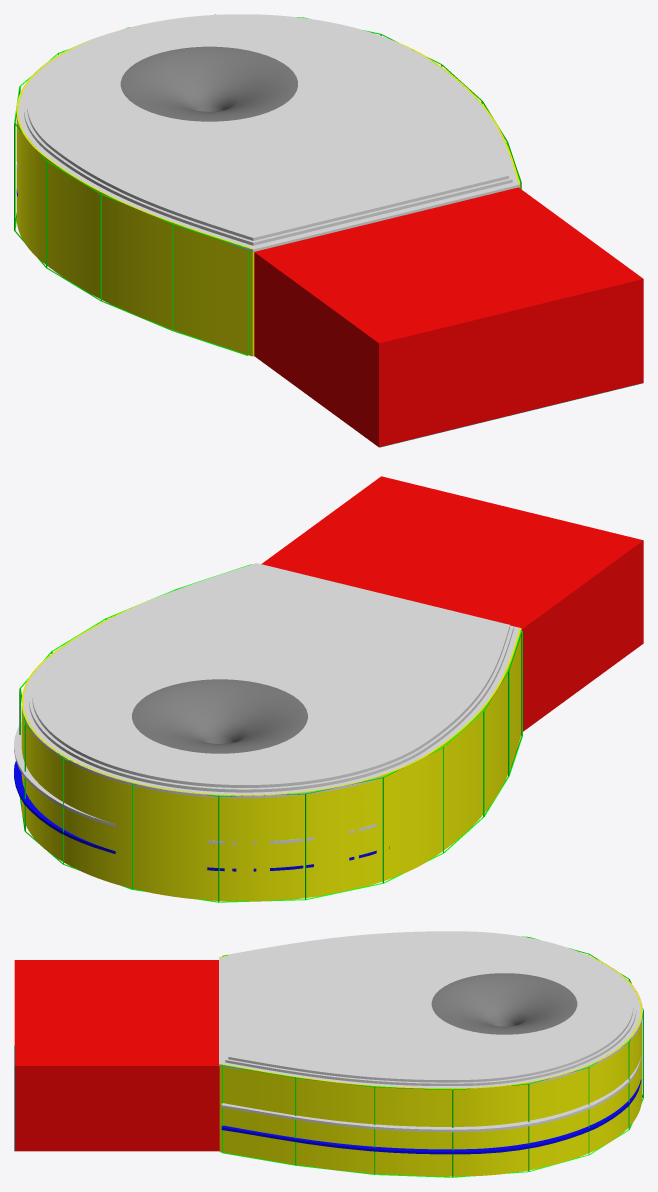
File: EXP07_Completa.fbx
3 views of the same model, one above another, from view 1: azimuth 30°, elevation 25°; view 2: azimuth 150°, elevation 25°; view 3: azimuth 270°, elevation 25° (orthographic). The views are drawn at different scales.
Visible parts, largest first — view 1: EXP5_Cielo, EXP5_Entrada, EXP5_ParedesVidrio, EXP5_Cascada, EXP5_MarcosVentanas; view 2: EXP5_Cielo, EXP5_ParedesVidrio, EXP5_Entrada, EXP5_Cascada, EXP5_MarcosVentanas, Cube.002, Cube.001; view 3: EXP5_Cielo, EXP5_Entrada, EXP5_ParedesVidrio, EXP5_Cascada, Cube.002, Cube.001, EXP5_MarcosVentanas.
Boxes of the visible parts, <box> form: EXP5_Cielo: <box>16,14,520,251</box>; EXP5_Entrada: <box>254,187,643,447</box>; EXP5_ParedesVidrio: <box>16,39,520,356</box>; EXP5_Cascada: <box>120,46,297,121</box>; EXP5_MarcosVentanas: <box>14,14,521,355</box>; EXP5_Cielo: <box>21,563,521,798</box>; EXP5_ParedesVidrio: <box>21,596,521,901</box>; EXP5_Entrada: <box>261,476,643,731</box>; EXP5_Cascada: <box>132,679,307,753</box>; EXP5_MarcosVentanas: <box>19,564,522,902</box>; Cube.002: <box>14,722,389,844</box>; Cube.001: <box>14,761,389,871</box>; EXP5_Cielo: <box>219,931,642,1087</box>; EXP5_Entrada: <box>14,960,219,1151</box>; EXP5_ParedesVidrio: <box>219,952,641,1176</box>; EXP5_Cascada: <box>431,973,577,1034</box>; Cube.002: <box>221,1056,641,1132</box>; Cube.001: <box>221,1079,641,1154</box>; EXP5_MarcosVentanas: <box>222,936,643,1177</box>.
Bounding box in the file's own units: 7015 × 2727 × 11653.
